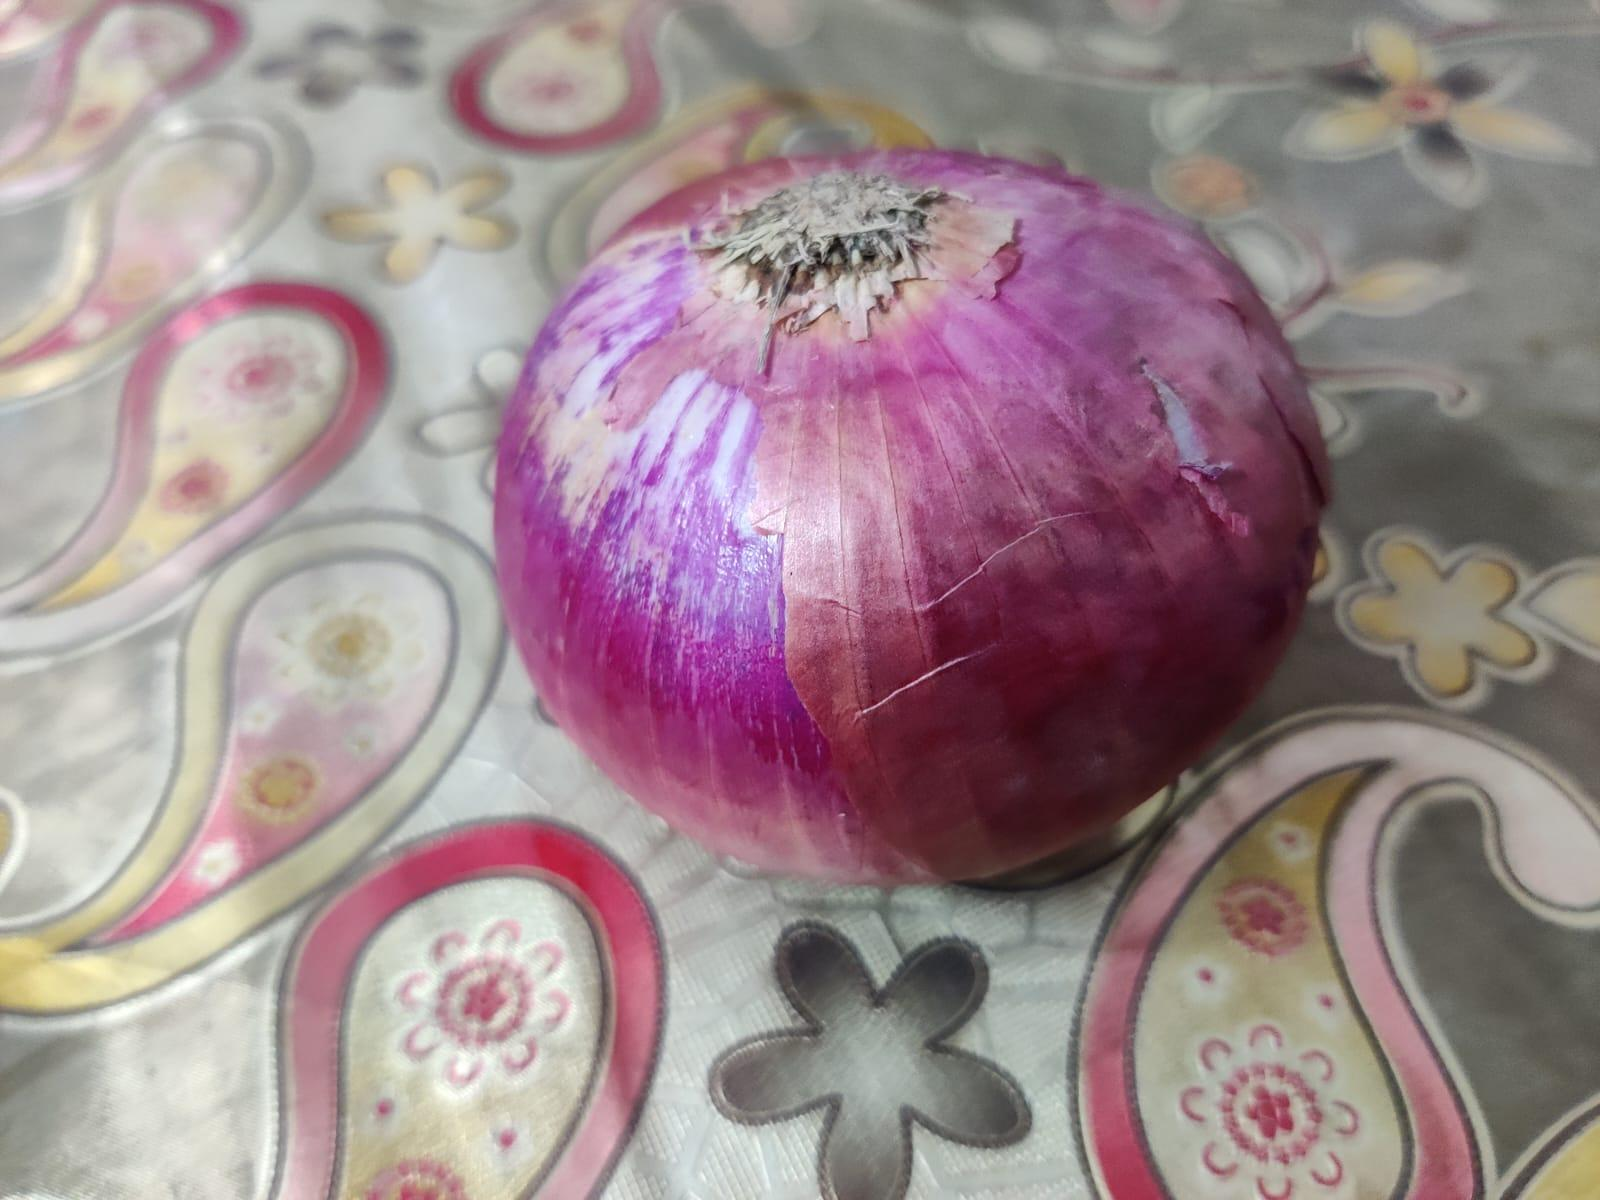non-mango: (494, 151, 1329, 887)
